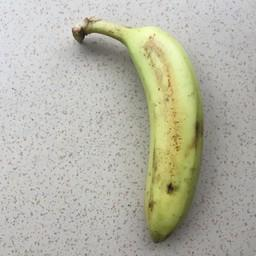Good_banana: (74, 11, 210, 235)
